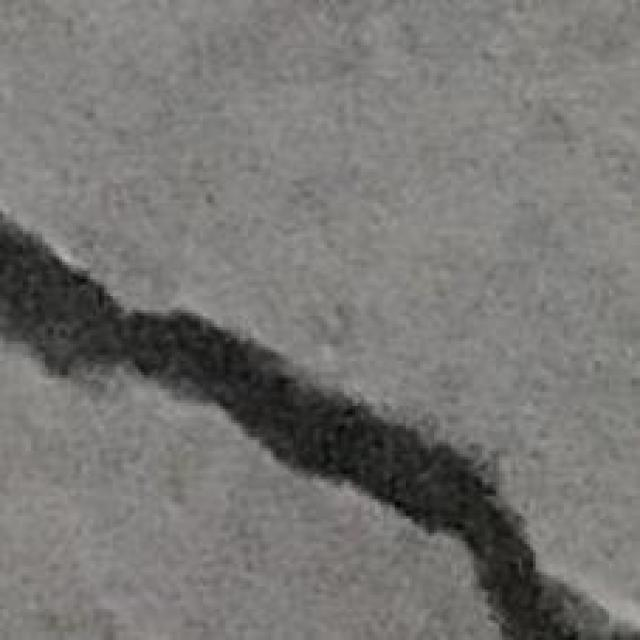Crack: (0, 206, 637, 637)
